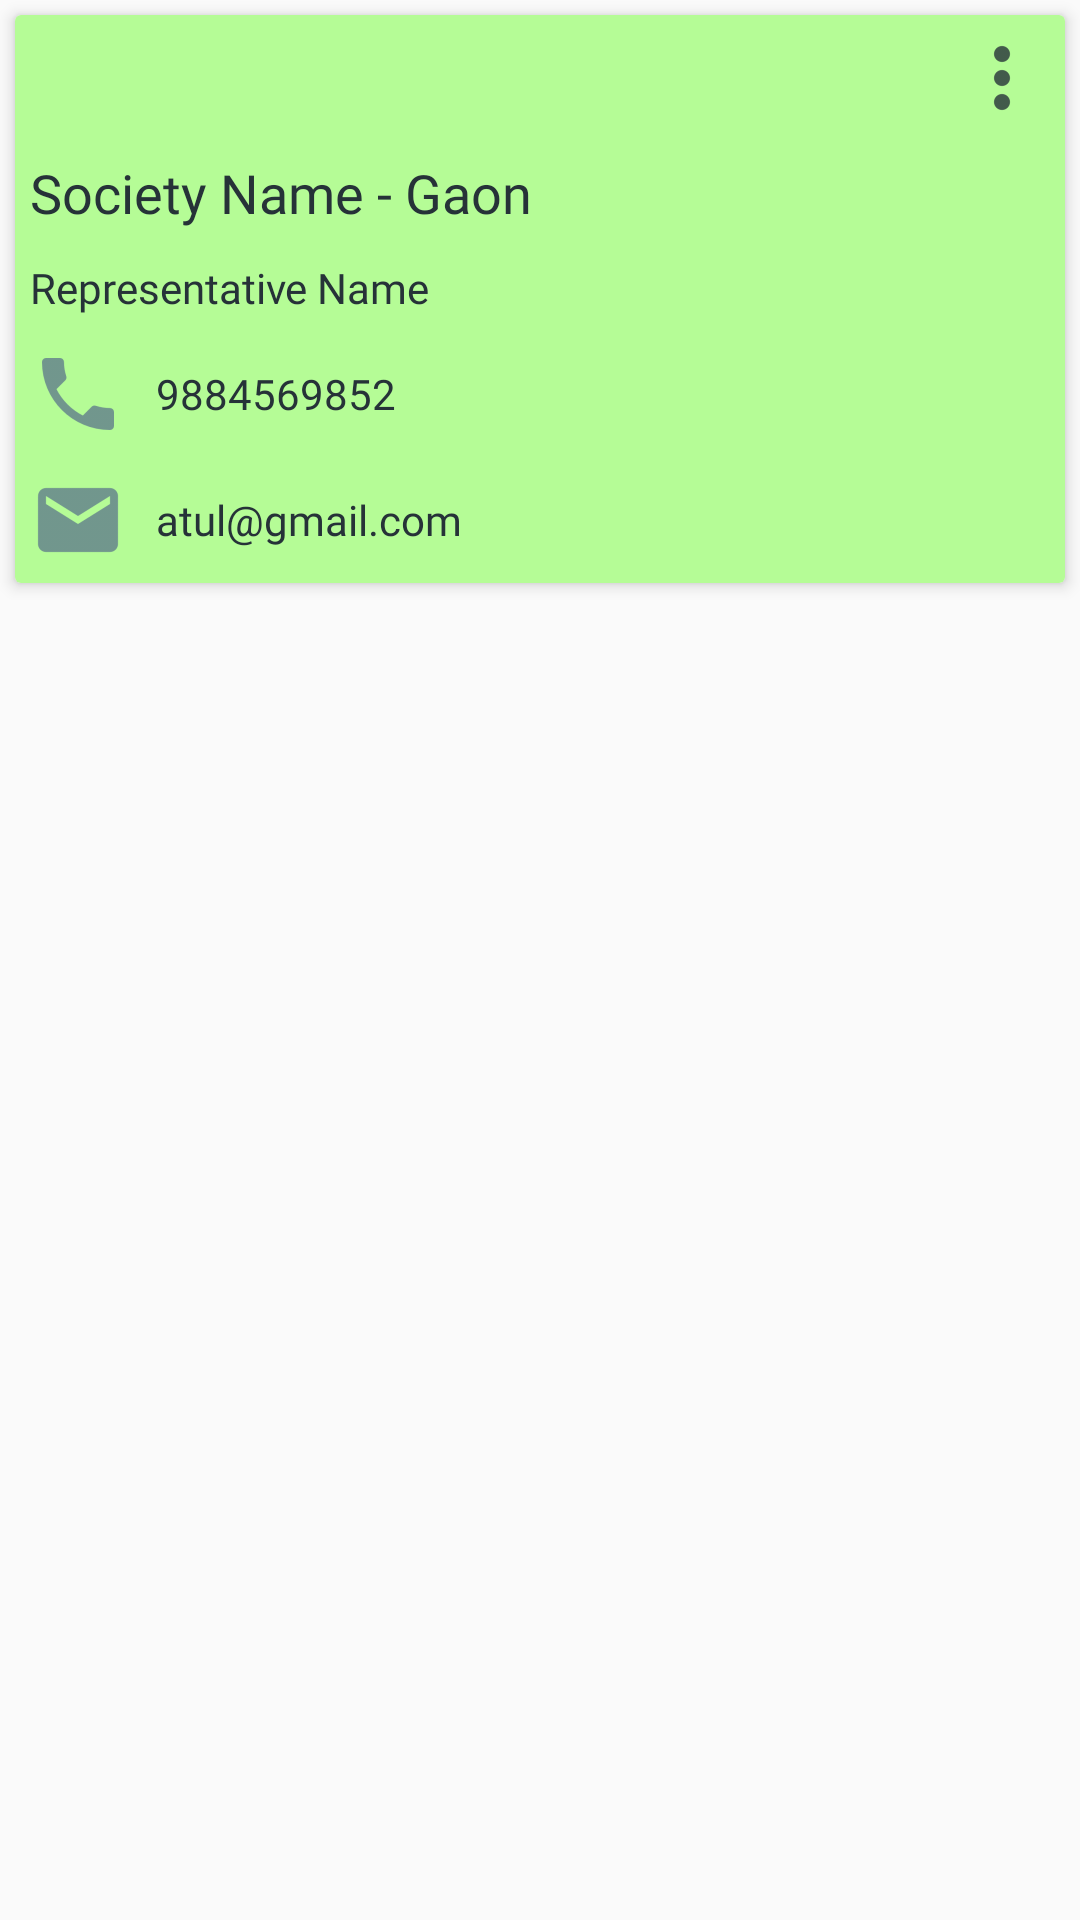

Named icons in this screenshot (1080*1920) and their bounding boxes, (x1, y1, x2, y2):
menu: (994, 46, 1010, 110)
